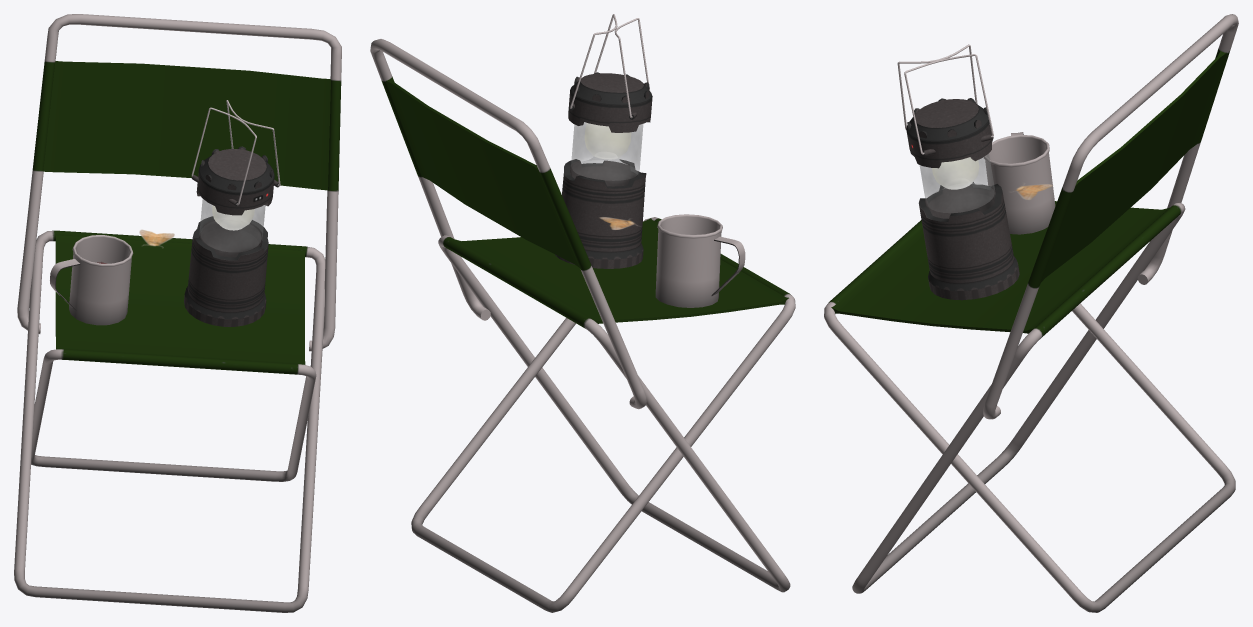
File: chair_mug_lamp.glb
3 views of the same model, side by side, from view 1: azimuth 30°, elevation 25°; view 2: azimuth 150°, elevation 25°; view 3: azimuth 270°, elevation 25° (orthographic). The views are drawn at different scales.
Visible parts, largest first — view 1: polySurface15; view 2: polySurface15; view 3: polySurface15.
Part boxes in pixels (bbox=[...]): polySurface15: bbox=[14, 14, 341, 612]; polySurface15: bbox=[370, 14, 795, 612]; polySurface15: bbox=[824, 14, 1238, 612].
Bounding box in the file's own units: 153 × 203 × 139.
Materials: 1 (1 with a texture image).
